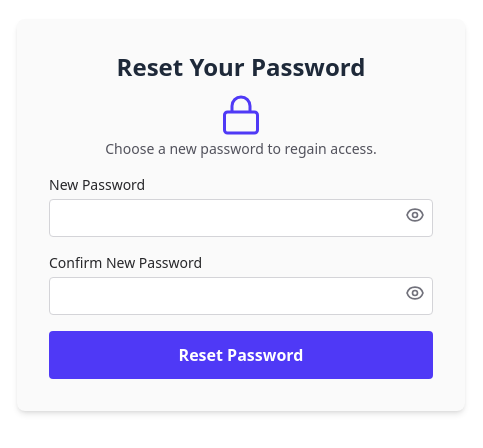
Test: ResetPassword › shows password strength meter
Type "abc" into the password field labelled "New Password" at (241, 218), box [49,199,433,237]
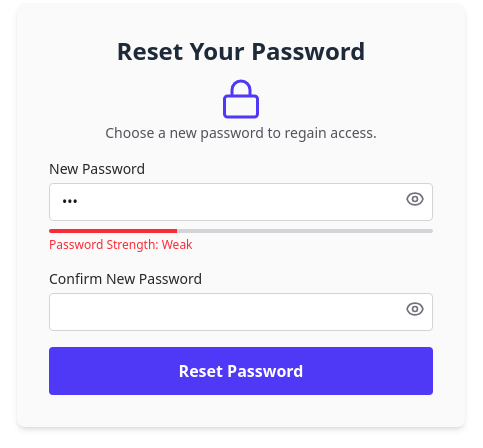
Expected: the text "Password Strength: Weak" is shown, [49,236,192,253]
Type "Abc123!xyz" into the password field labelled "New Password" at (241, 202), box [49,183,433,221]
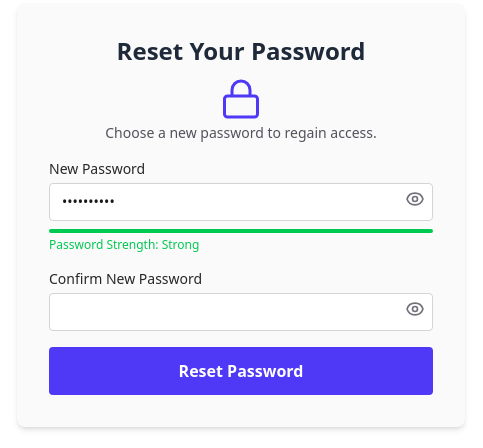
Expected: the text "Password Strength: Strong" is shown, [49,236,199,253]
